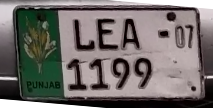1: (64, 57, 87, 92), (88, 57, 109, 92)
9: (132, 54, 155, 91), (110, 56, 131, 91)
A: (119, 17, 142, 51)
E: (96, 16, 120, 52)
L: (69, 17, 96, 53)
